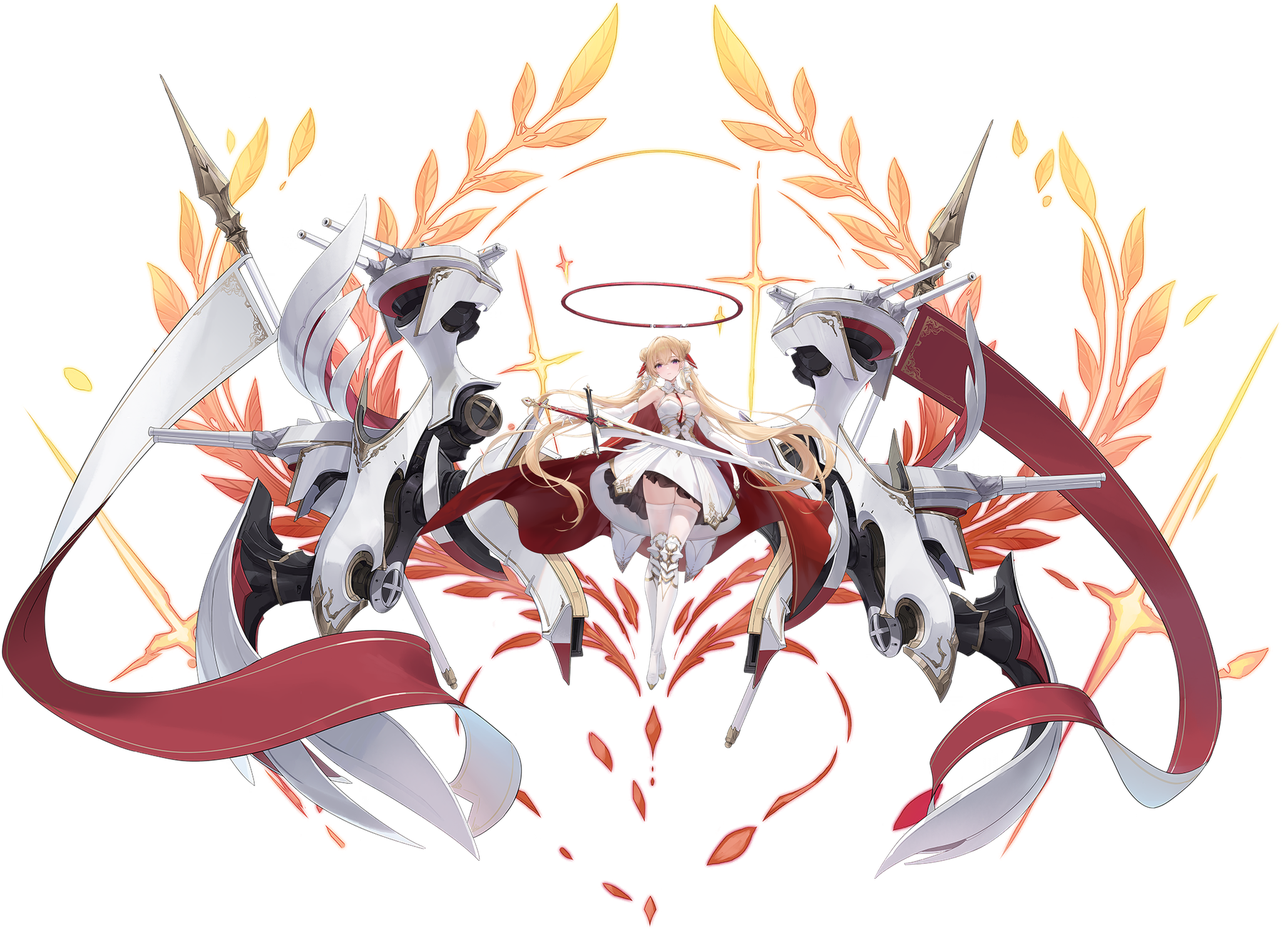person: (562, 320, 854, 865)
